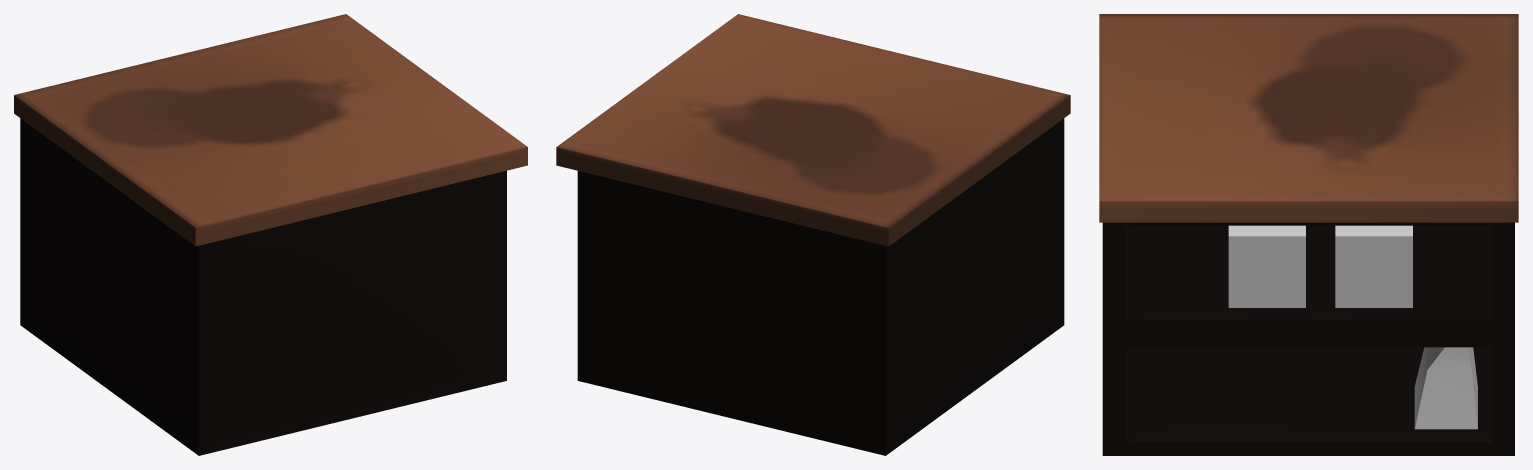
The model's file is Tx_props_small_counter_11.fbx.
The picture shows the model from 3 angles, left to right: view 1: azimuth 30°, elevation 25°; view 2: azimuth 150°, elevation 25°; view 3: azimuth 270°, elevation 25°; orthographic projection. The views are drawn at different scales.
Visible parts, largest first — view 1: Tx_props_small_counter; view 2: Tx_props_small_counter; view 3: Tx_props_small_counter.
Boxes of the visible parts, x1,y1,x2,y2 form: Tx_props_small_counter: (14,14,527,455); Tx_props_small_counter: (556,14,1070,455); Tx_props_small_counter: (1099,14,1518,455).
Bounding box in the file's own units: 4.81 × 3.19 × 4.56.
